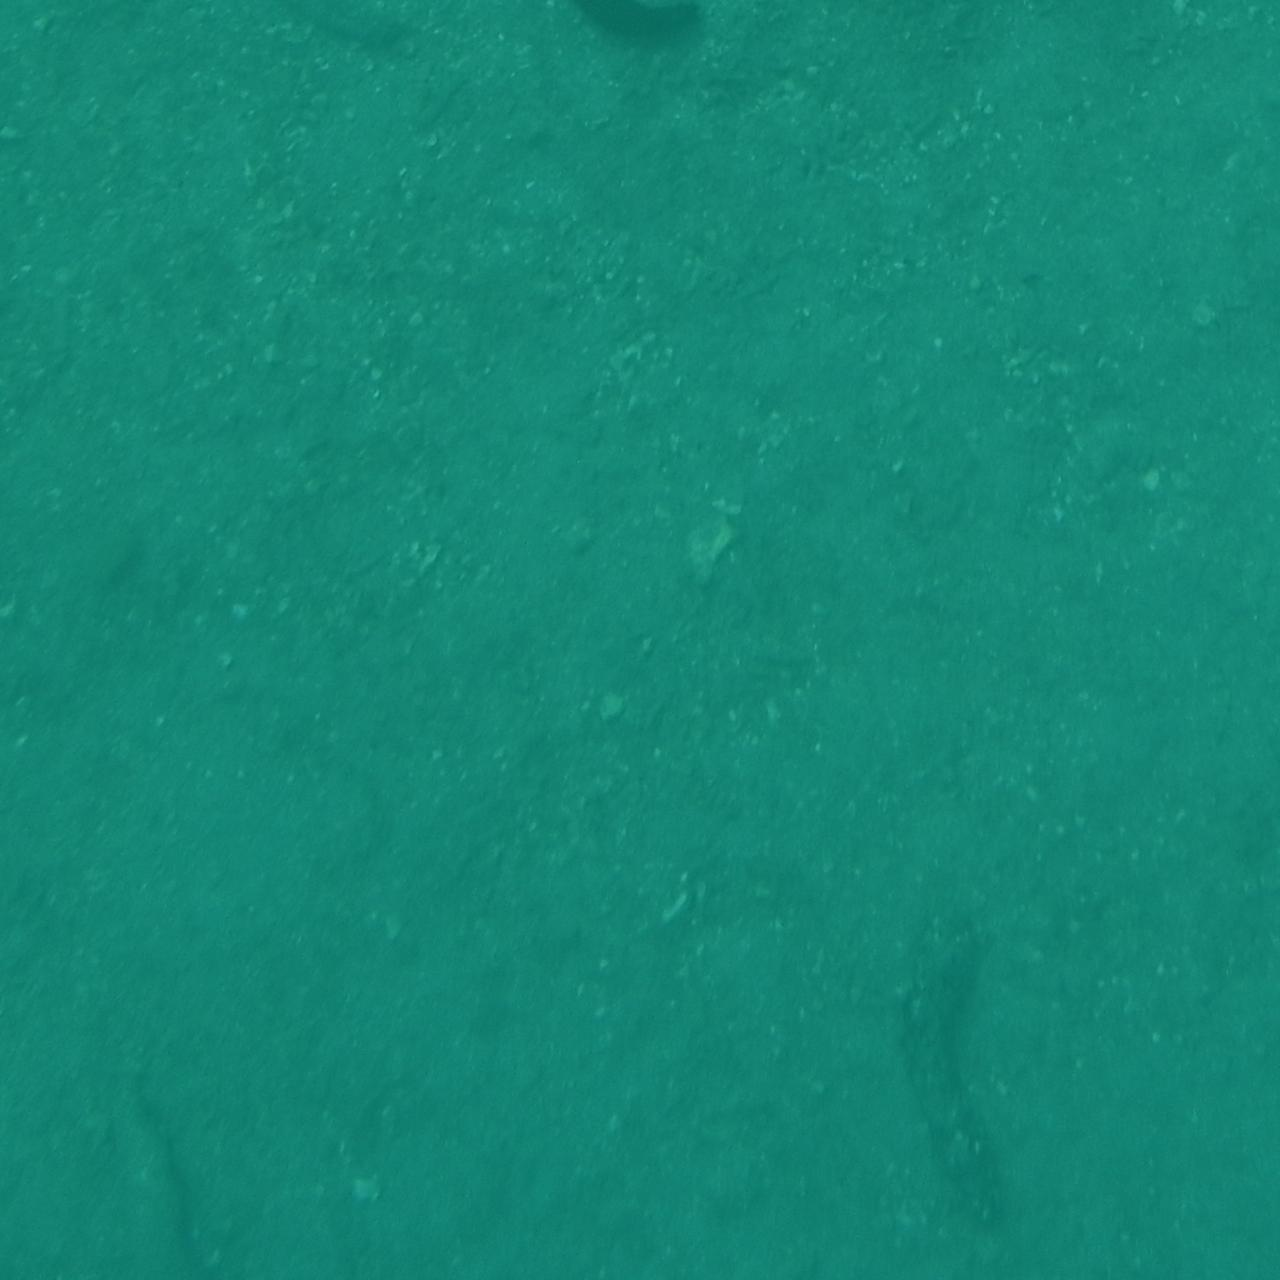Holothuria tubulosa: (898, 869, 1006, 1250), (1126, 1055, 1280, 1278), (0, 557, 91, 871), (0, 646, 98, 900), (0, 1017, 184, 1145), (98, 1105, 217, 1276), (1152, 1141, 1280, 1279)
